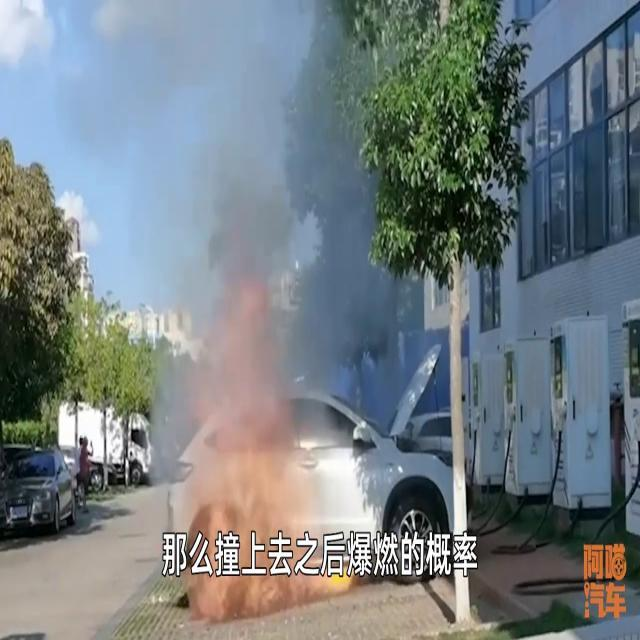Smoke: (150, 2, 406, 512)
